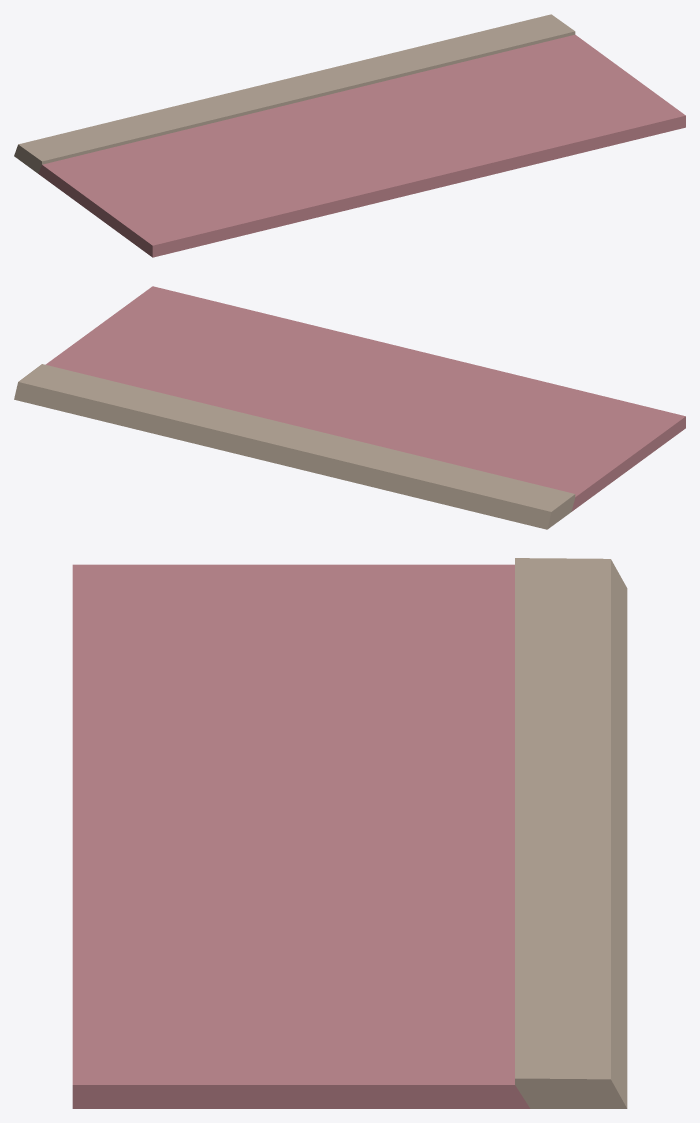
The model's file is sidewalk.glb.
3 renders of one model, top to bottom at view 1: azimuth 30°, elevation 25°; view 2: azimuth 150°, elevation 25°; view 3: azimuth 270°, elevation 25°, orthographic. The views are drawn at different scales.
Parts seen in each view (by area): view 1: acera; view 2: acera; view 3: acera.
Boxes of the visible parts, x1,y1,x2,y2 form: acera: (14,14,685,257); acera: (14,286,685,529); acera: (72,558,627,1108).
Bounding box in the file's own units: 7.43 × 0.2026 × 3.35.
